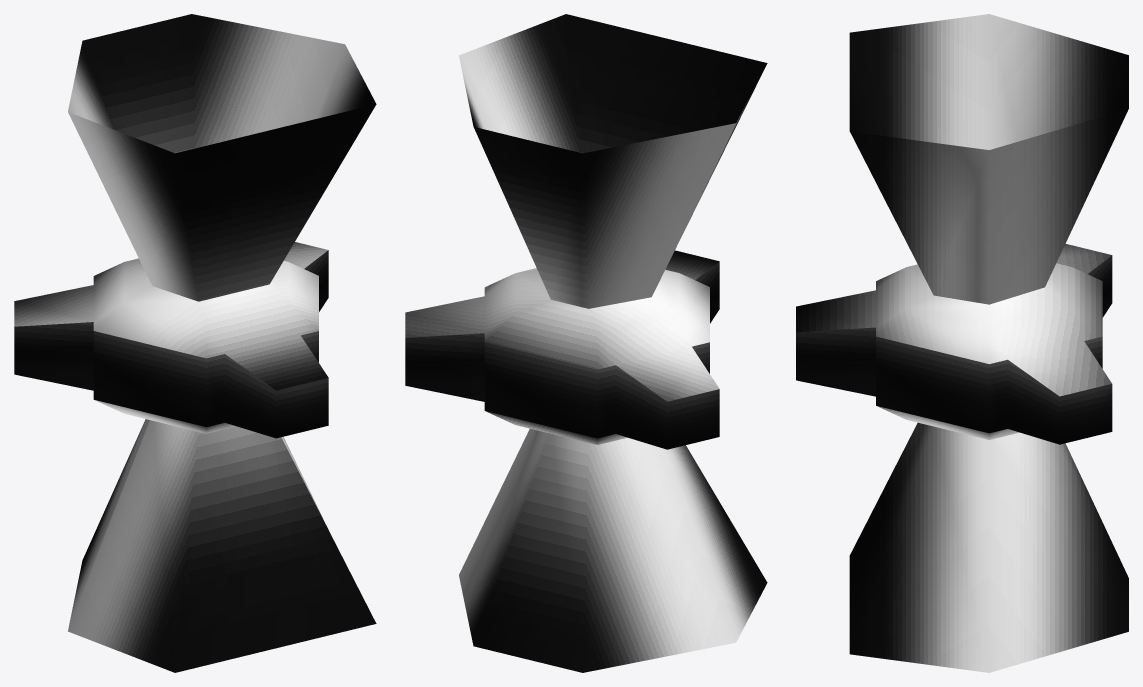
File: datan_common_mini2pa_cede2acd.obj
3 views of the same model, side by side, from view 1: azimuth 30°, elevation 25°; view 2: azimuth 150°, elevation 25°; view 3: azimuth 270°, elevation 25° (orthographic).
Visible parts, largest first — view 1: datan_common_mini2pa_cede2acd_mesh02, datan_common_mini2pa_cede2acd_mesh01, datan_common_mini2pa_cede2acd_mesh00; view 2: datan_common_mini2pa_cede2acd_mesh02, datan_common_mini2pa_cede2acd_mesh01, datan_common_mini2pa_cede2acd_mesh00; view 3: datan_common_mini2pa_cede2acd_mesh02, datan_common_mini2pa_cede2acd_mesh01, datan_common_mini2pa_cede2acd_mesh00.
Part boxes in pixels (x1,y1,x2,y2): datan_common_mini2pa_cede2acd_mesh02: [68, 14, 376, 301]; datan_common_mini2pa_cede2acd_mesh01: [68, 419, 376, 672]; datan_common_mini2pa_cede2acd_mesh00: [14, 242, 328, 438]; datan_common_mini2pa_cede2acd_mesh02: [459, 14, 767, 308]; datan_common_mini2pa_cede2acd_mesh01: [459, 428, 767, 672]; datan_common_mini2pa_cede2acd_mesh00: [405, 250, 719, 449]; datan_common_mini2pa_cede2acd_mesh02: [849, 14, 1128, 304]; datan_common_mini2pa_cede2acd_mesh01: [849, 422, 1128, 672]; datan_common_mini2pa_cede2acd_mesh00: [796, 243, 1112, 444].
Bounding box in the file's own units: 2.86 × 4.51 × 2.6.
Materials: 1 (1 with a texture image).
